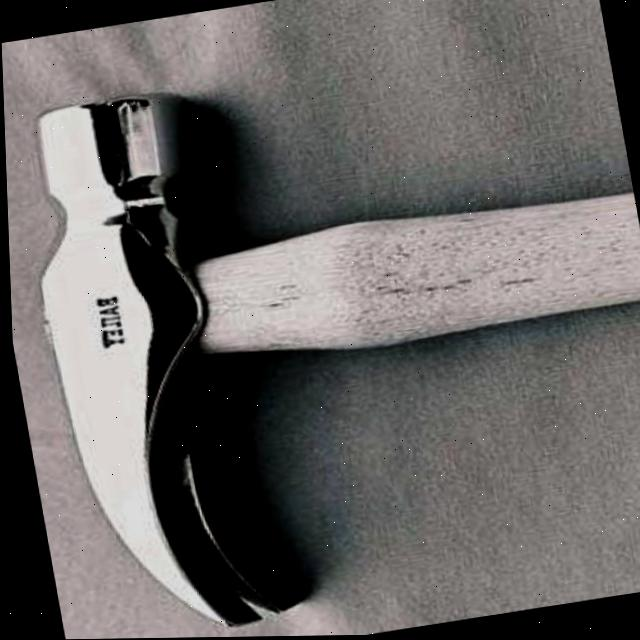hammer: (1, 13, 640, 640)
